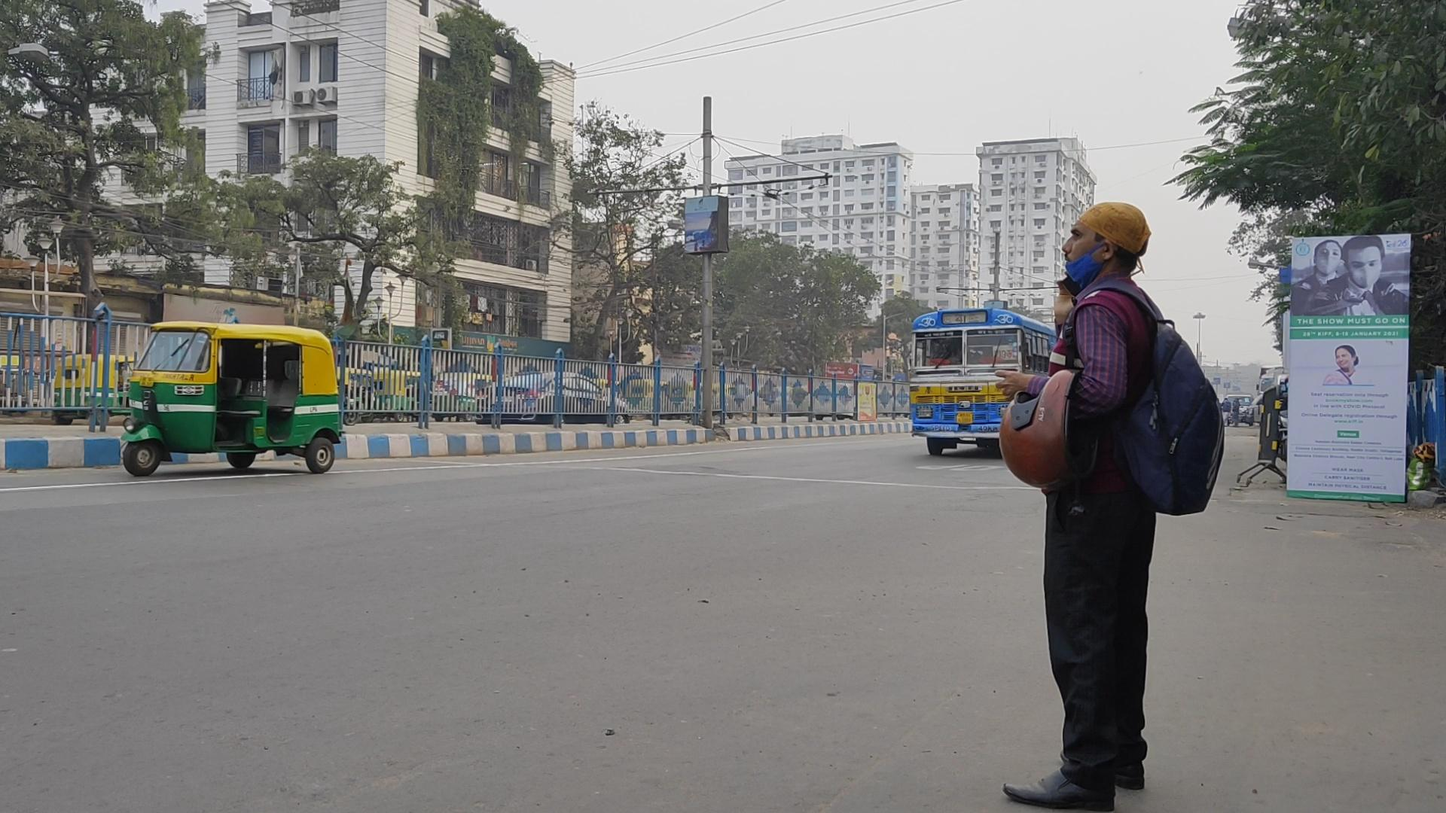Auto: (120, 320, 343, 478)
Bus: (908, 307, 1054, 458)
